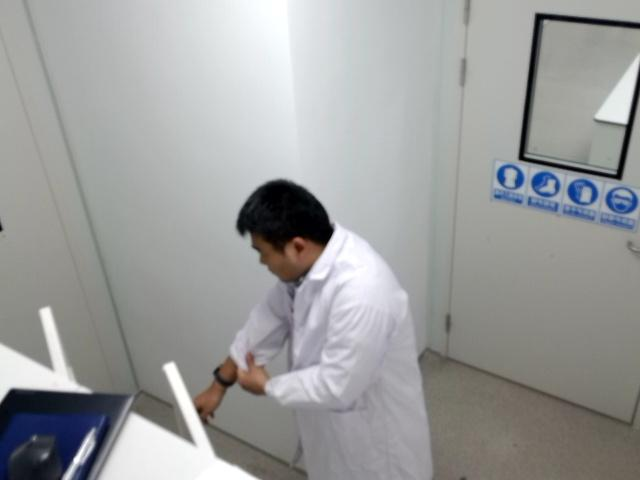Lab_coat: (195, 180, 430, 479)
